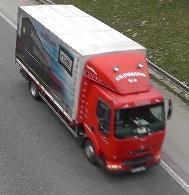Truck: (16, 5, 172, 175)
